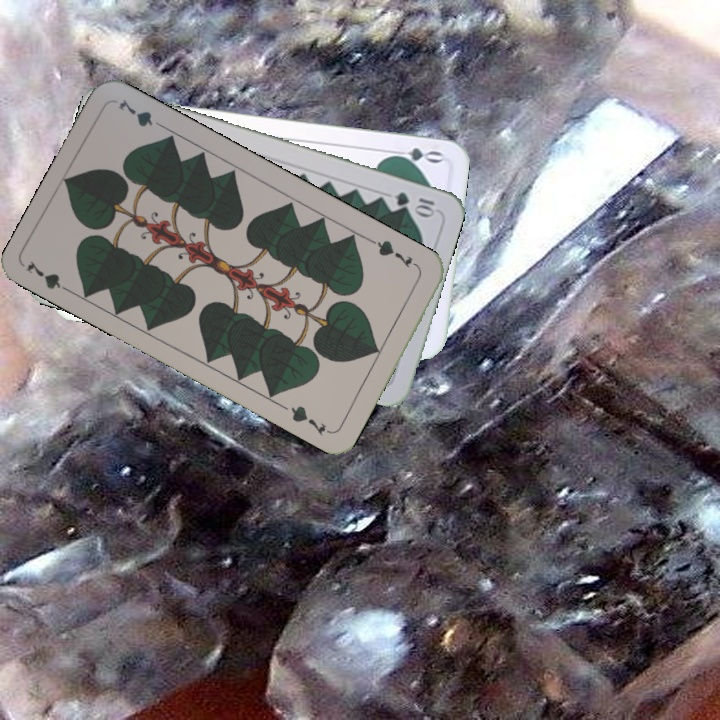G10: (391, 187, 440, 218)
G7: (22, 256, 77, 297), (368, 236, 422, 271)
GO: (384, 144, 444, 166)
